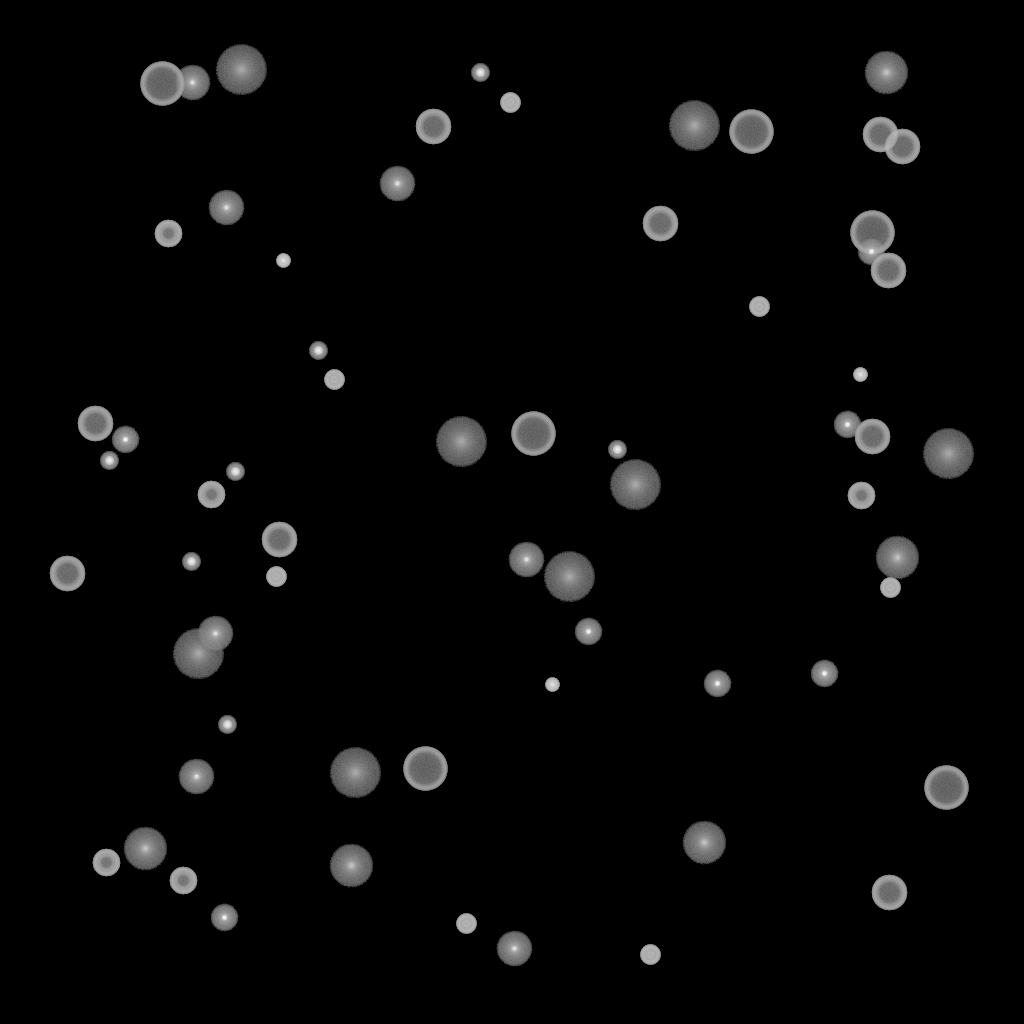depth:-10: (810, 660, 838, 688), (111, 426, 139, 454), (574, 618, 602, 646), (210, 904, 238, 932), (703, 670, 731, 698), (857, 238, 885, 266), (833, 411, 861, 439)
depth:-20: (218, 716, 236, 734), (100, 452, 118, 470), (226, 463, 244, 481), (608, 441, 626, 459), (182, 553, 200, 571), (309, 342, 327, 360), (471, 64, 489, 82)
depth:-30: (853, 368, 867, 382), (545, 678, 559, 692), (276, 254, 290, 268)
depth:-40: (324, 370, 344, 390), (640, 945, 660, 965), (500, 93, 520, 113), (749, 297, 769, 317), (456, 914, 476, 934), (880, 578, 900, 598), (266, 567, 286, 587)
depth:-50: (154, 220, 182, 248), (197, 481, 225, 509), (92, 849, 120, 877), (169, 867, 197, 895), (847, 482, 875, 510)
depth:-60: (854, 419, 890, 455), (871, 875, 907, 911), (415, 109, 451, 145), (870, 253, 906, 289), (642, 206, 678, 242), (884, 129, 920, 165), (77, 406, 113, 442), (49, 556, 85, 592), (261, 522, 297, 558), (862, 117, 898, 153)
depth:-70: (924, 766, 968, 810), (511, 412, 555, 456), (729, 110, 773, 154), (850, 211, 894, 255), (140, 62, 184, 106), (403, 747, 447, 791)
depth:0: (508, 542, 544, 578), (496, 931, 532, 967), (174, 65, 210, 101), (197, 616, 233, 652), (379, 166, 415, 202), (208, 190, 244, 226), (178, 759, 214, 795)
depth:10: (875, 536, 919, 580), (123, 827, 167, 871), (682, 821, 726, 865), (864, 51, 908, 95), (329, 844, 373, 888)
depth:20: (609, 460, 661, 510), (435, 417, 487, 467), (329, 748, 381, 798), (922, 429, 974, 479), (668, 101, 720, 151), (543, 552, 595, 602), (172, 629, 224, 679), (215, 45, 267, 95)
